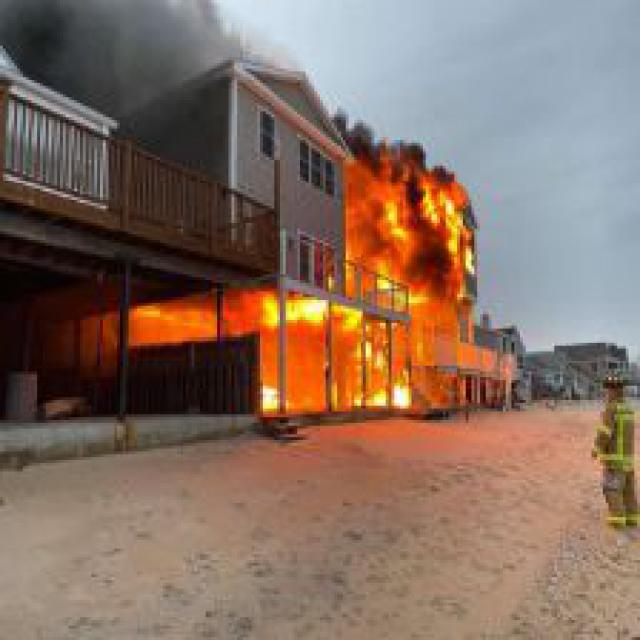fire: (257, 131, 506, 420)
